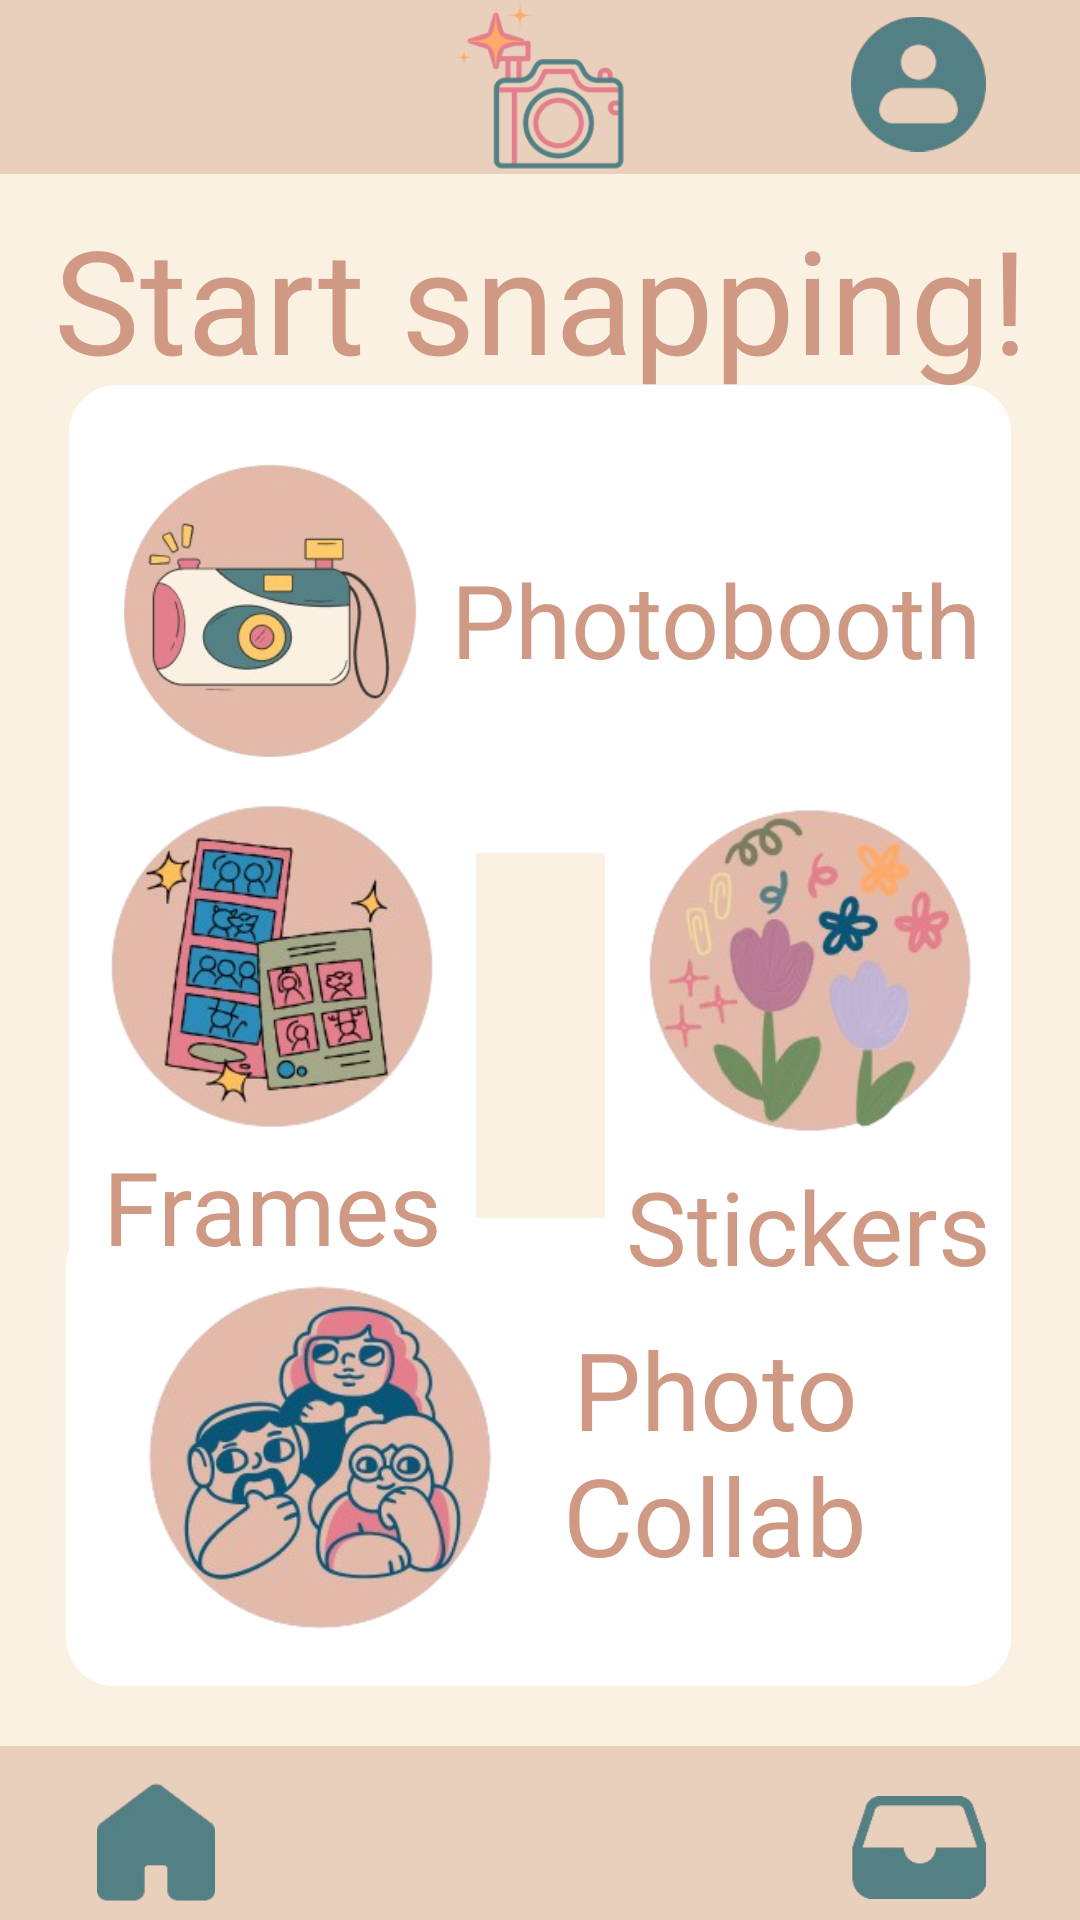

Where to tap for icons on this 1080px×1920px app screen, as [x,y]:
album: [919,1847]
cam: [270,611]
home: [156,1842]
user profile: [918,84]
